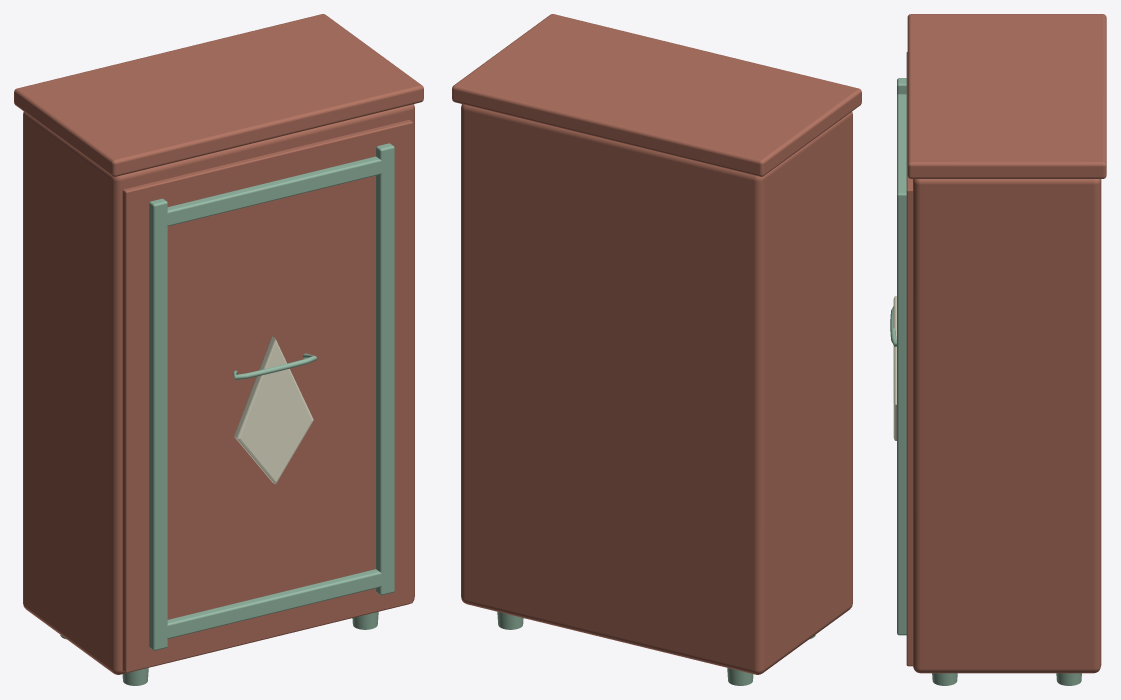
Rendered from enchanted-harp-garden-and-music-sanctuary-instrument-s-f741efec__30430.glb.
3 views of the same model, side by side, from view 1: azimuth 30°, elevation 25°; view 2: azimuth 150°, elevation 25°; view 3: azimuth 270°, elevation 25° (orthographic).
Visible parts, largest first — view 1: instrument-storage-cabinet; view 2: instrument-storage-cabinet; view 3: instrument-storage-cabinet.
Part boxes in pixels (x1=…): instrument-storage-cabinet: x1=14, y1=14, x2=423, y2=685; instrument-storage-cabinet: x1=452, y1=14, x2=861, y2=685; instrument-storage-cabinet: x1=890, y1=14, x2=1106, y2=685.
Bounding box in the file's own units: 1.16 × 1.92 × 0.7005.
